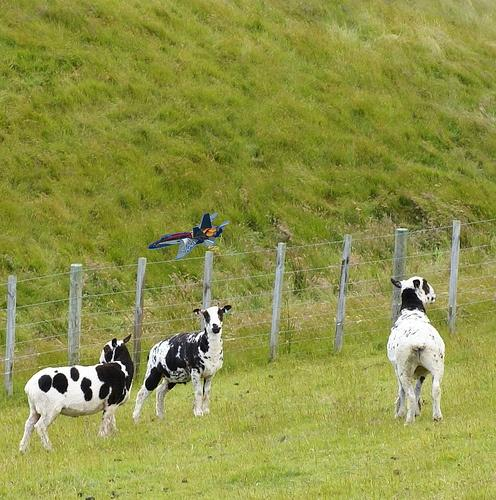tampered: (149, 213, 229, 260)
